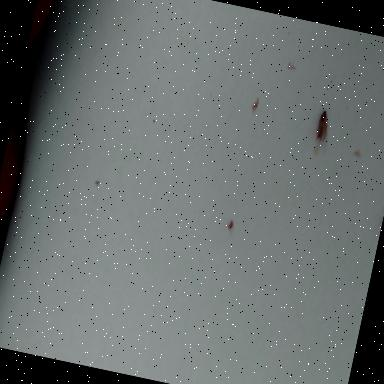pbw: (313, 110, 330, 145)
